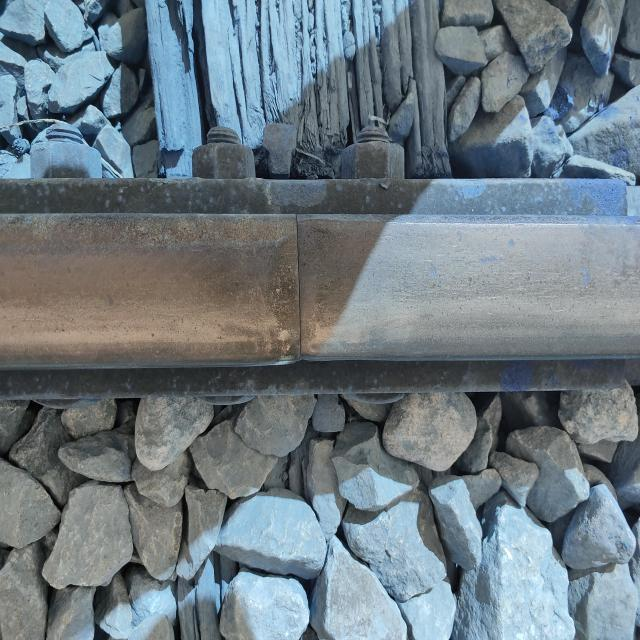Defective Joint: (14, 121, 632, 419)
